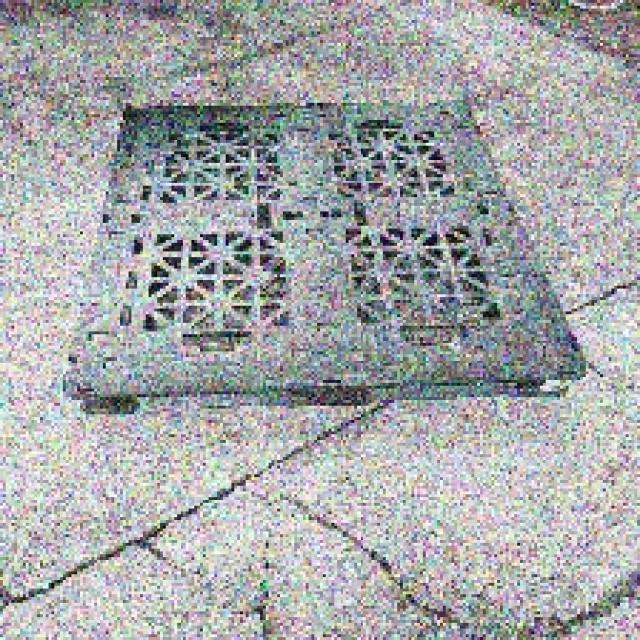igps: (57, 93, 593, 422)
